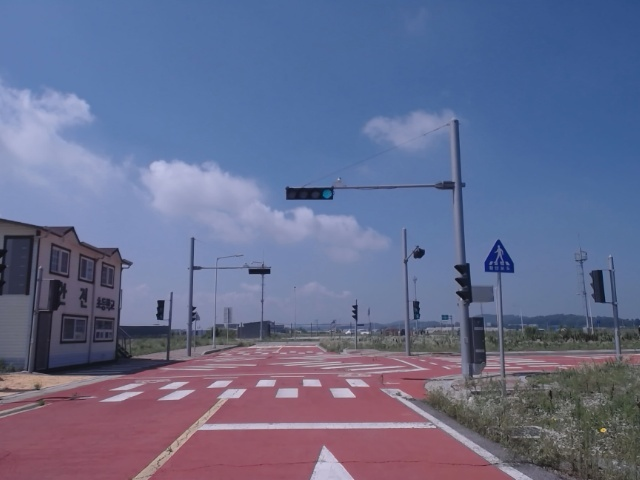straight_green_4: (286, 188, 334, 200)
